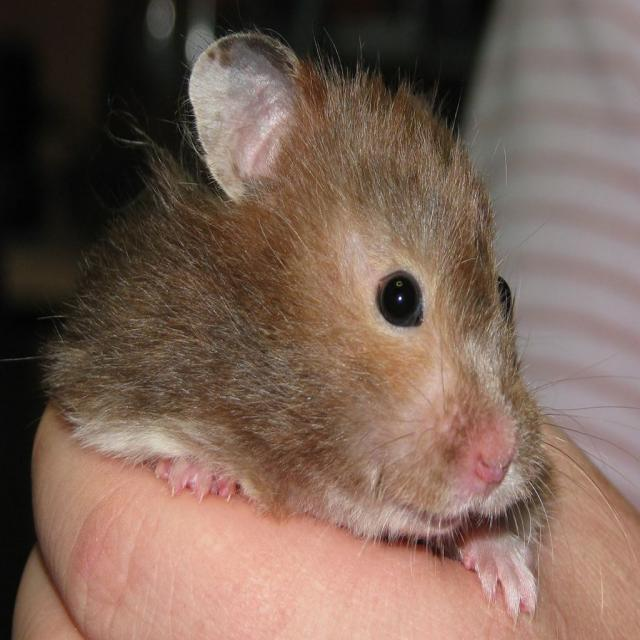rat: (36, 27, 563, 626)
